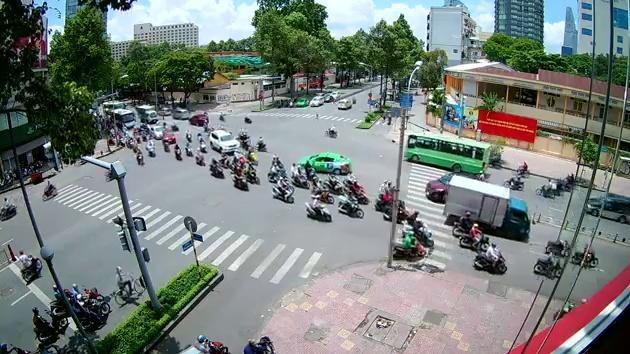xe buyt: (405, 130, 489, 176)
xe dap: (113, 265, 146, 306)
xe hoi: (296, 150, 352, 173), (207, 128, 239, 153), (189, 112, 209, 126), (161, 128, 176, 144)
xe may: (29, 304, 68, 341), (73, 293, 110, 328), (473, 242, 507, 275), (390, 231, 425, 260), (16, 248, 42, 283), (458, 223, 490, 250), (532, 251, 564, 278), (304, 194, 331, 221), (336, 191, 363, 217), (570, 242, 598, 267), (269, 176, 293, 203), (231, 164, 249, 190), (533, 177, 555, 197), (0, 196, 16, 220), (244, 160, 260, 184), (208, 156, 224, 179), (41, 179, 57, 200), (515, 158, 530, 177), (323, 122, 337, 138), (253, 135, 266, 152), (145, 139, 156, 158), (193, 147, 204, 166), (134, 147, 143, 166), (173, 143, 182, 161), (183, 140, 193, 156), (197, 137, 206, 152), (183, 128, 191, 142)
xe tai: (445, 174, 530, 241)
xe van: (584, 191, 629, 224)
